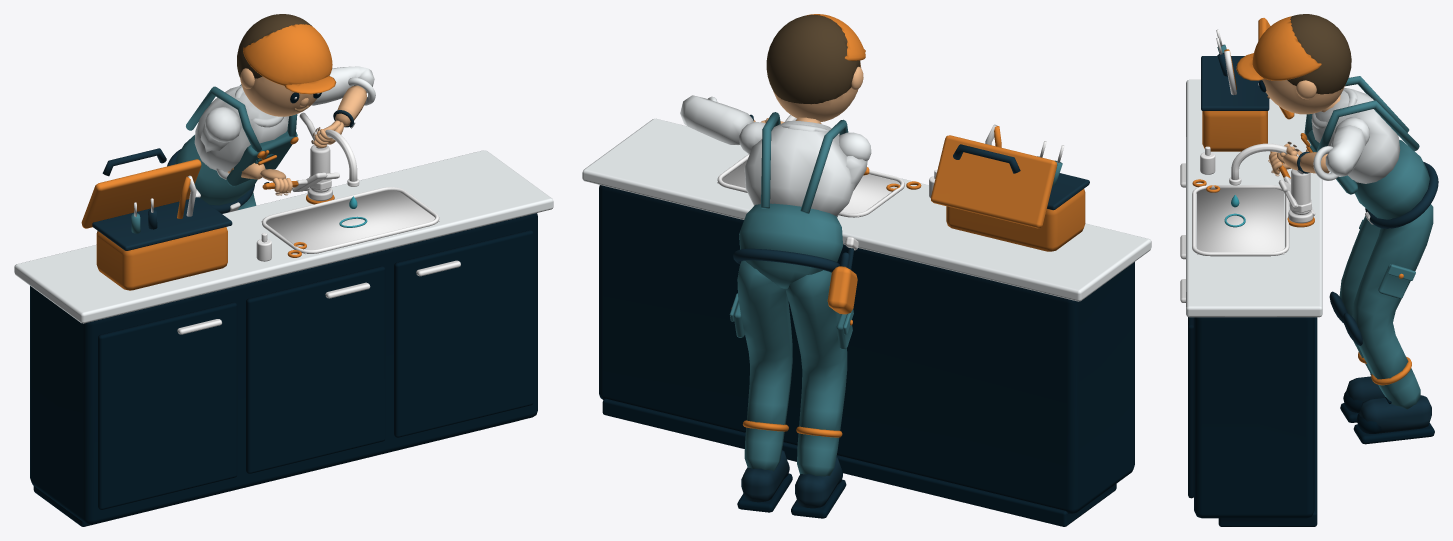
File: bild-1.glb
3 renders of one model, left to right at view 1: azimuth 30°, elevation 25°; view 2: azimuth 150°, elevation 25°; view 3: azimuth 270°, elevation 25°, orthographic. The views are drawn at different scales.
Parts seen in each view (by area): view 1: Sockel, Arbeitsplatte, Deckel, FachkraftArm1, Becken, Dreher1, FachkraftBauch, Auslauf, Fachkraft1Daumen, FachkraftSchnalle, FachkraftBraue1; view 2: Sockel, Arbeitsplatte, FachkraftBauch, Deckel, FachkraftArm1, FachkraftBraue1, Dreher1, Fachkraft1Daumen, Becken, Fachkraft1Schnur0, Auslauf; view 3: Sockel, Arbeitsplatte, FachkraftBauch, Dreher1, Deckel, FachkraftArm1, Becken, Auslauf, FachkraftBraue1, Fachkraft1Daumen, Fachkraft1Schnur0, FachkraftSchnalle.
Boxes of the visible parts, bbox=[...] form: Sockel: bbox=[30, 213, 537, 526]; Arbeitsplatte: bbox=[14, 150, 553, 323]; Deckel: bbox=[81, 24, 336, 290]; FachkraftArm1: bbox=[194, 66, 375, 179]; Becken: bbox=[261, 190, 439, 253]; Dreher1: bbox=[92, 110, 354, 250]; FachkraftBauch: bbox=[174, 84, 297, 213]; Auslauf: bbox=[134, 112, 439, 253]; Fachkraft1Daumen: bbox=[227, 68, 366, 193]; FachkraftSchnalle: bbox=[177, 202, 460, 334]; FachkraftBraue1: bbox=[237, 14, 311, 78]; Sockel: bbox=[599, 185, 1134, 526]; Arbeitsplatte: bbox=[582, 118, 1151, 301]; FachkraftBauch: bbox=[729, 112, 853, 476]; Deckel: bbox=[731, 14, 1085, 437]; FachkraftArm1: bbox=[680, 95, 871, 216]; FachkraftBraue1: bbox=[766, 14, 860, 104]; Dreher1: bbox=[733, 114, 1089, 508]; Fachkraft1Daumen: bbox=[753, 63, 863, 123]; Becken: bbox=[717, 161, 904, 217]; Fachkraft1Schnur0: bbox=[737, 462, 846, 518]; Auslauf: bbox=[717, 115, 1064, 217]; Sockel: bbox=[1188, 317, 1317, 526]; Arbeitsplatte: bbox=[1186, 79, 1322, 317]; FachkraftBauch: bbox=[1304, 76, 1433, 409]; Dreher1: bbox=[1201, 53, 1438, 433]; Deckel: bbox=[1192, 16, 1411, 385]; FachkraftArm1: bbox=[1311, 88, 1400, 183]; Becken: bbox=[1197, 188, 1284, 254]; Auslauf: bbox=[1192, 29, 1315, 256]; FachkraftBraue1: bbox=[1287, 14, 1351, 94]; Fachkraft1Daumen: bbox=[1261, 79, 1345, 174]; Fachkraft1Schnur0: bbox=[1340, 373, 1434, 444]; FachkraftSchnalle: bbox=[1180, 152, 1373, 302].
Size of the model in its own units: 1.98 by 1.68 by 0.9435.
